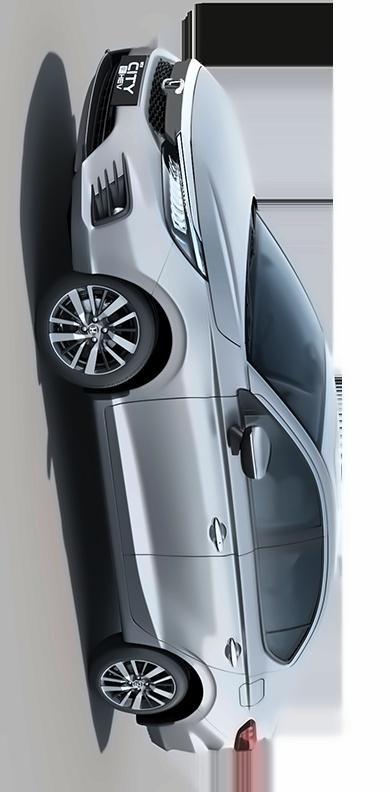Car hood: (185, 51, 259, 351)
Fender - -F-L-: (105, 228, 258, 420)
Fender - -R-L-: (150, 628, 286, 744)
Front bumper: (61, 43, 176, 296)
Headlight - -L-: (155, 133, 213, 290)
Passenger-s door - -F-L-: (98, 393, 353, 567)
Passenger-s door - -R-L-: (111, 538, 355, 683)
Rear bumper: (144, 705, 230, 773)
Rear light - -L-: (235, 718, 259, 754)
Side bumper - -L-: (81, 395, 175, 655)
Side mirror - -L-: (226, 421, 277, 484)
